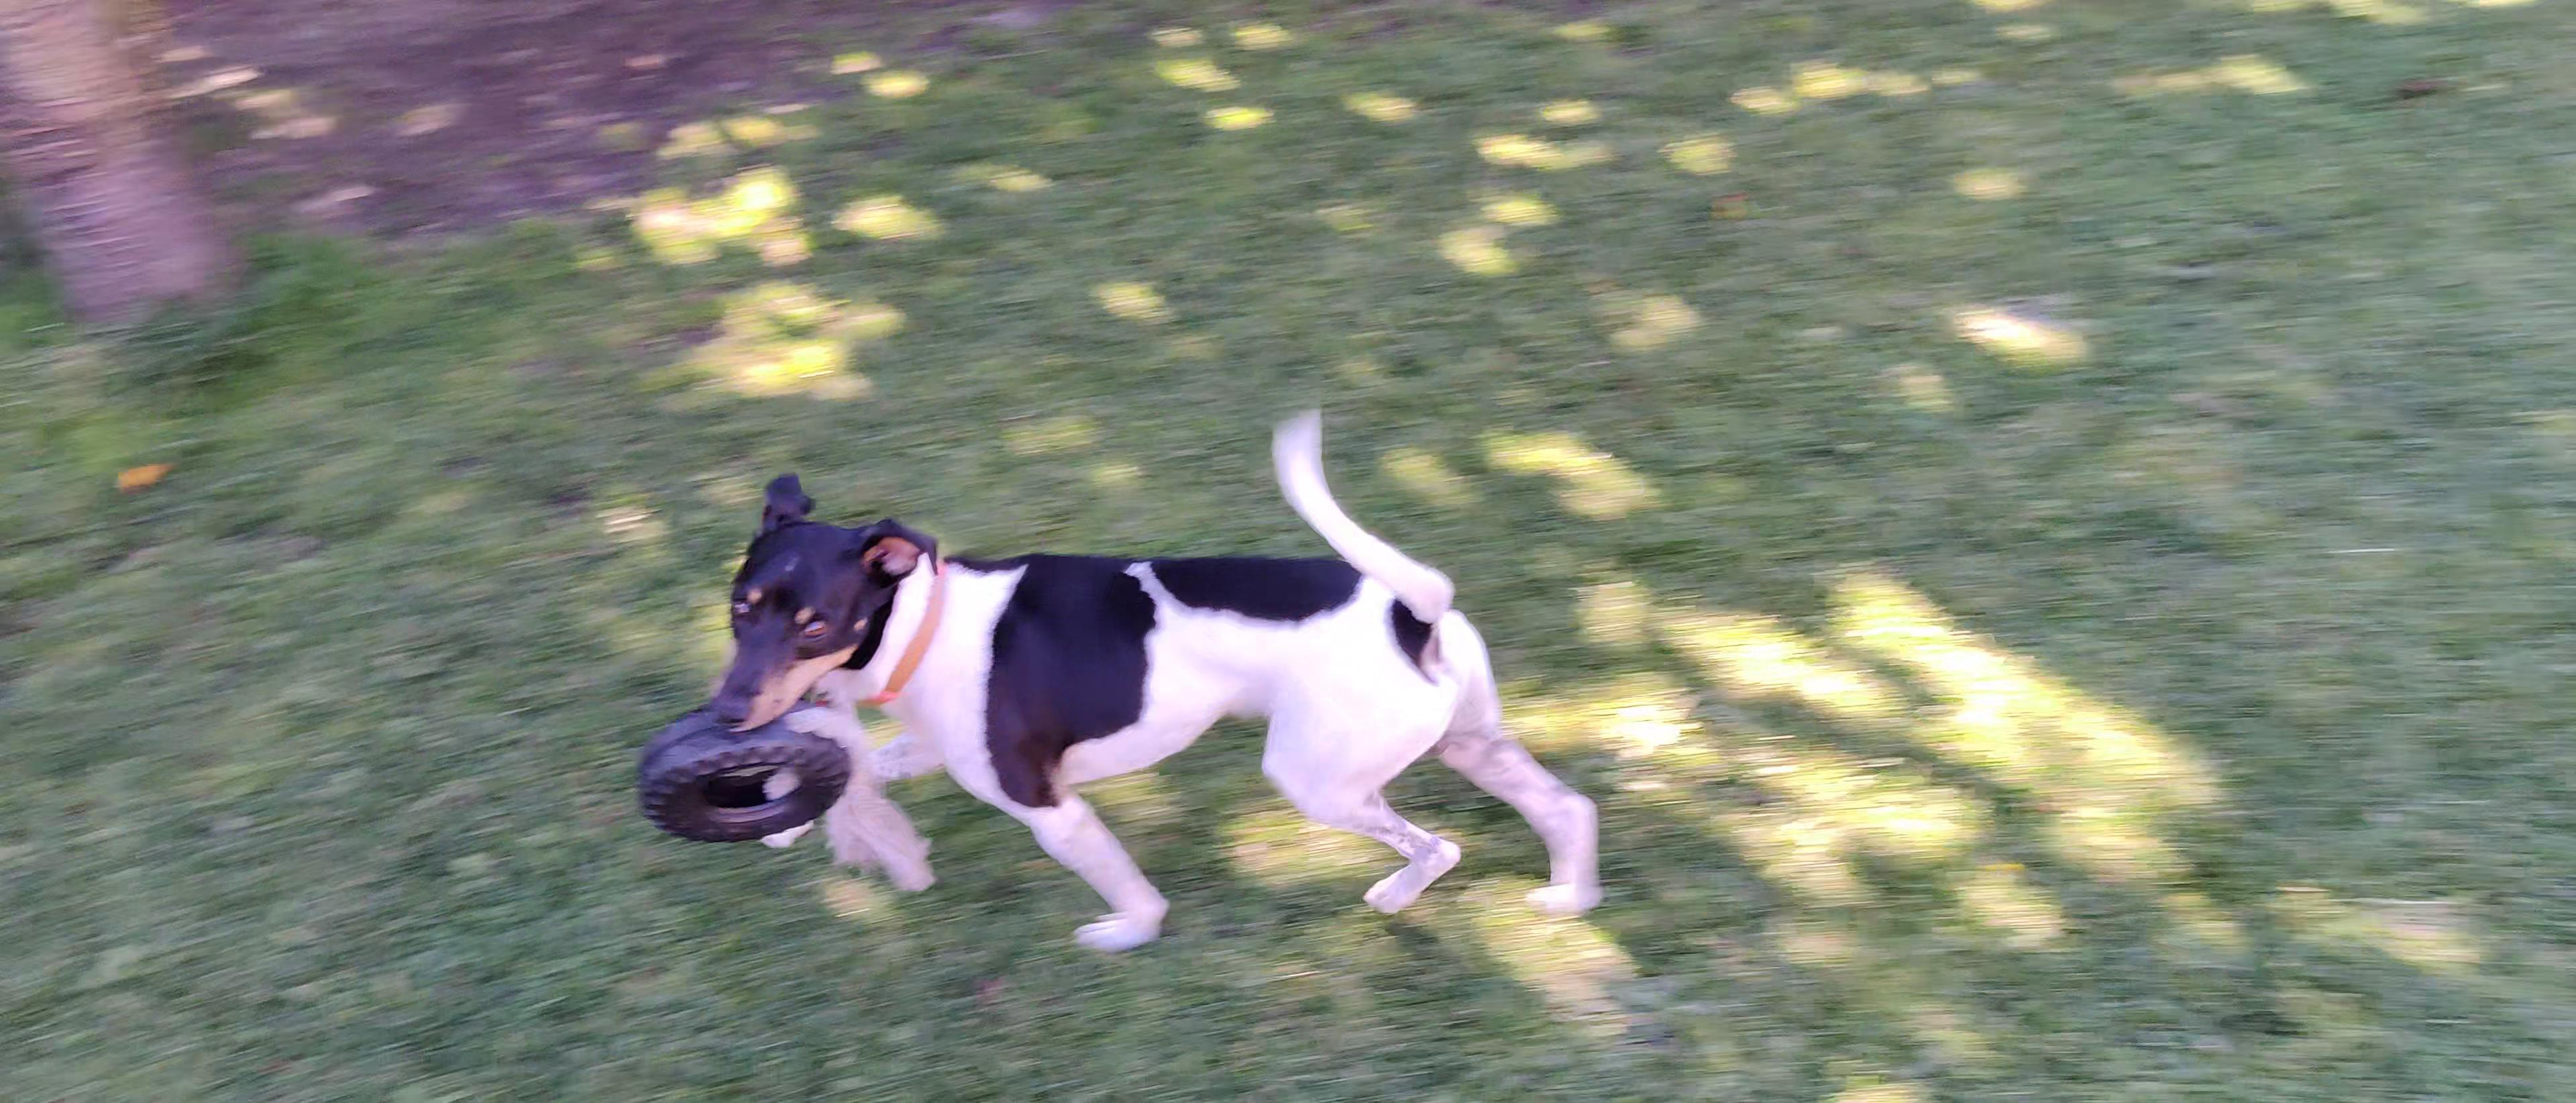Dog: (688, 396, 1620, 967)
